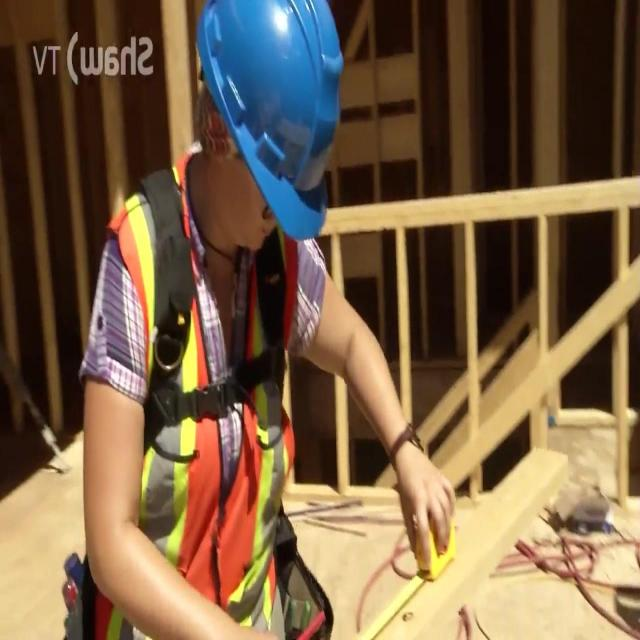Reflective-Jacket: (84, 179, 364, 633)
Safety-Helmet: (189, 2, 353, 244)
